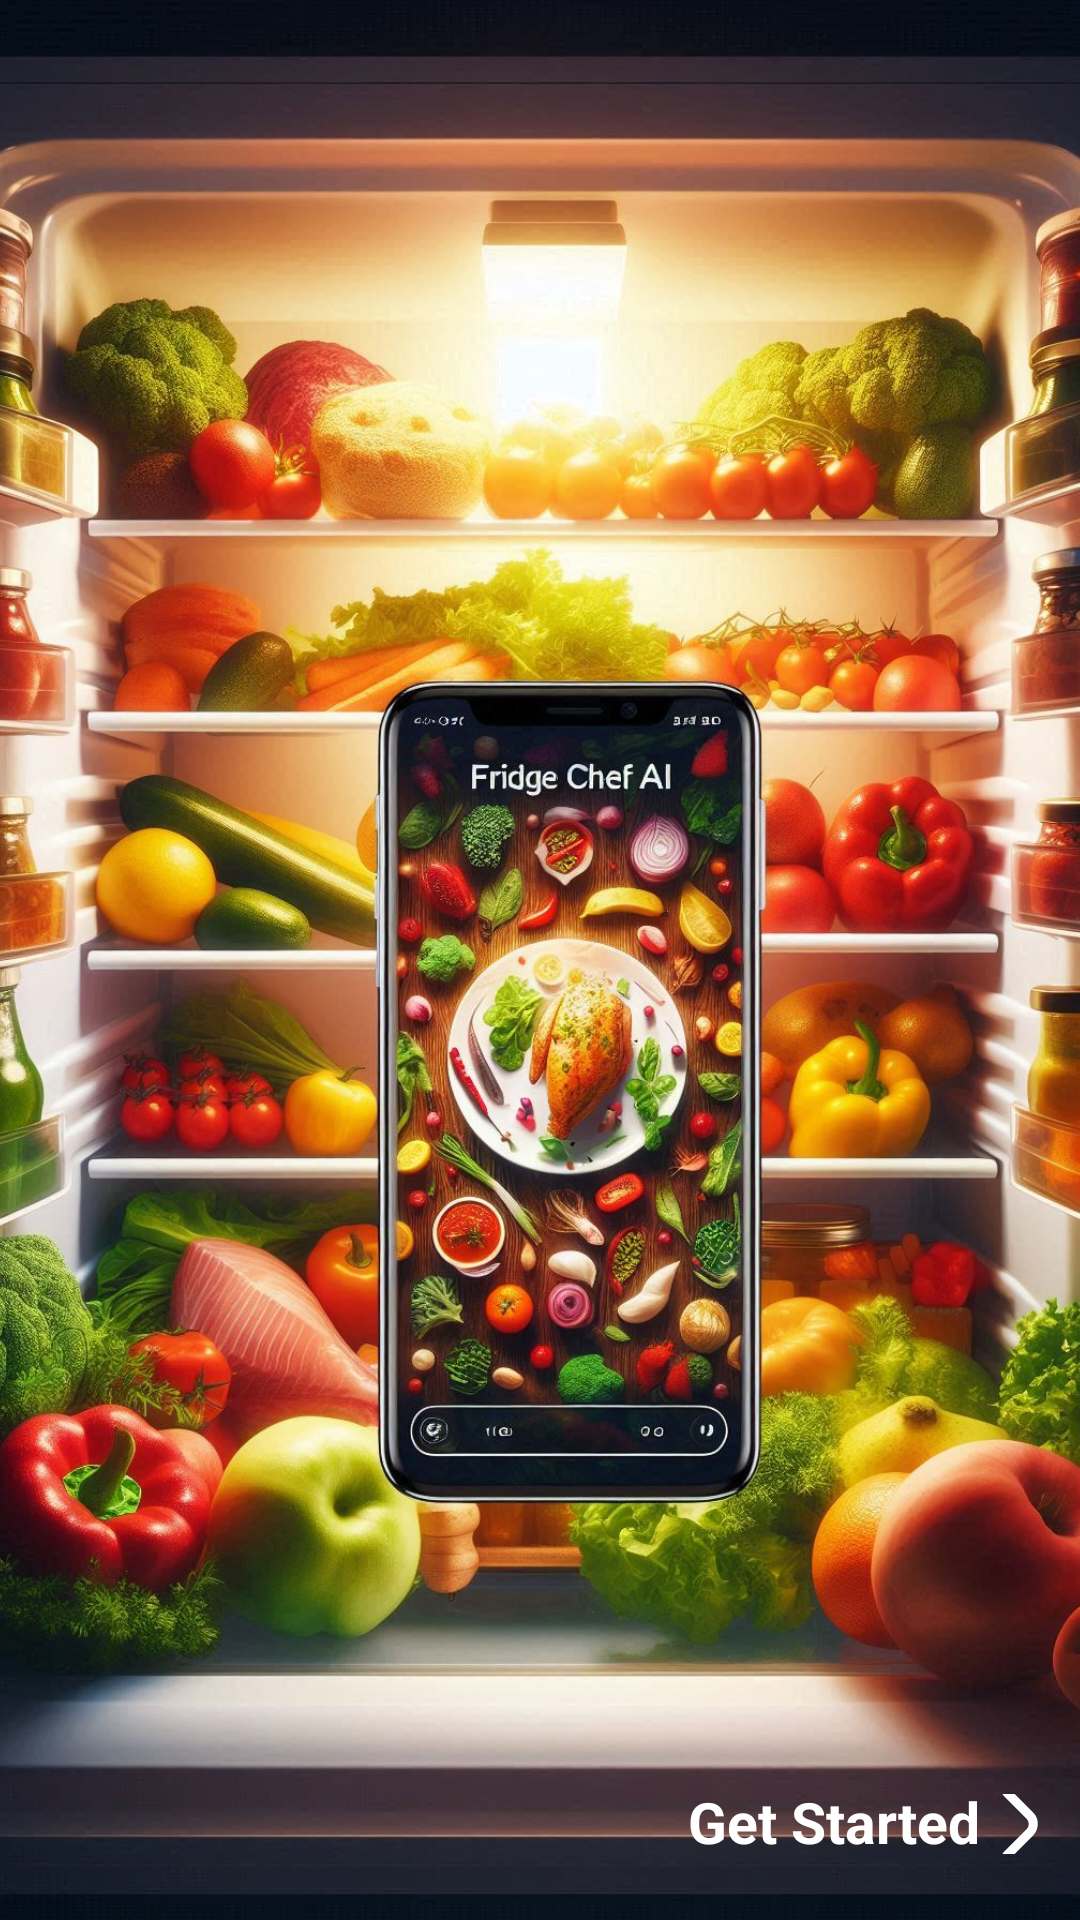

Where to tap for icons on this 1080×1920 app screen, as point (x, y):
next: point (1020, 1824)
